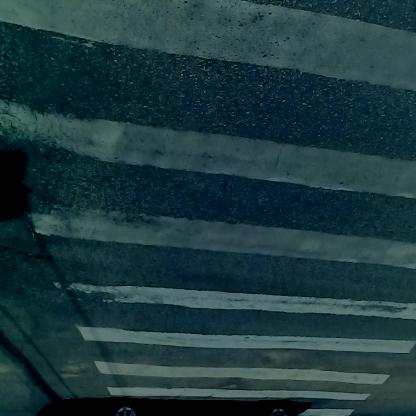crosswalk: (43, 4, 415, 390)
